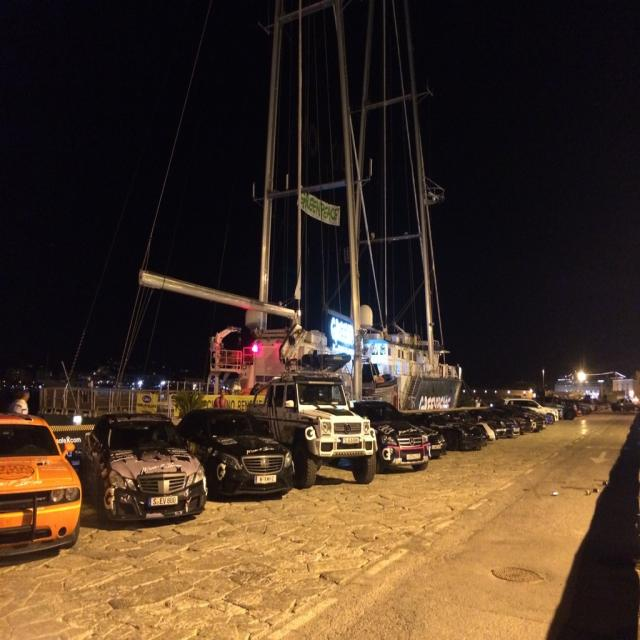car: (78, 406, 207, 522), (608, 396, 634, 413)
